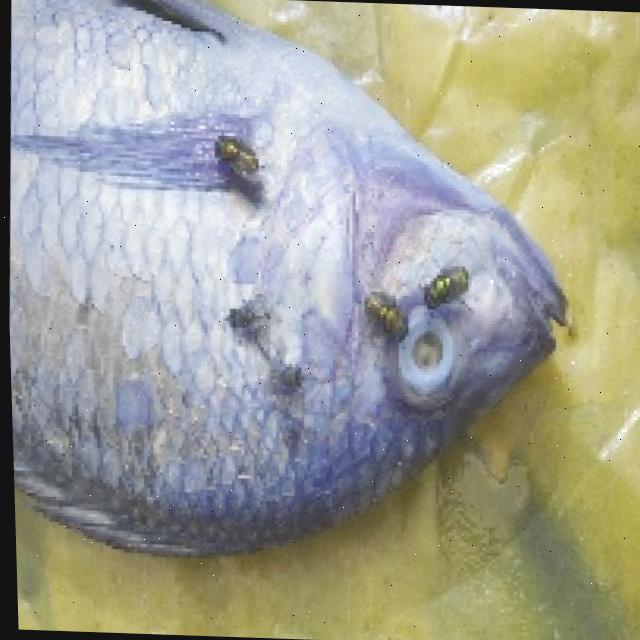Non-Fresh: (349, 278, 496, 418)
